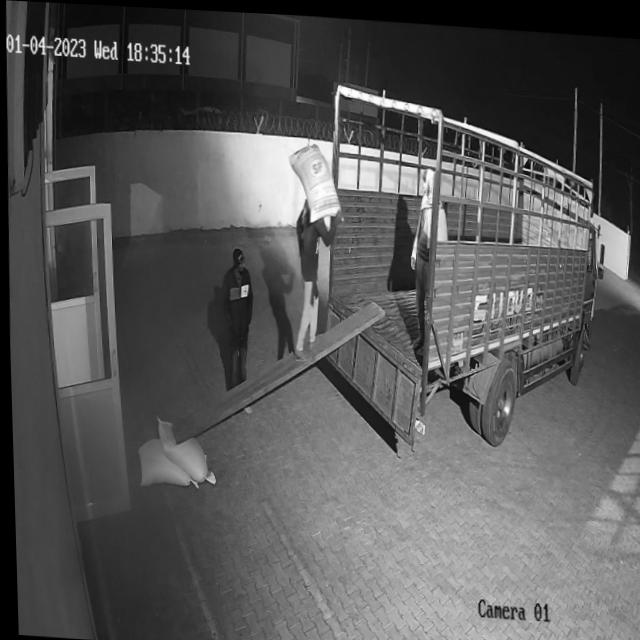sack: (285, 137, 340, 222), (153, 415, 213, 482), (133, 434, 196, 486)
